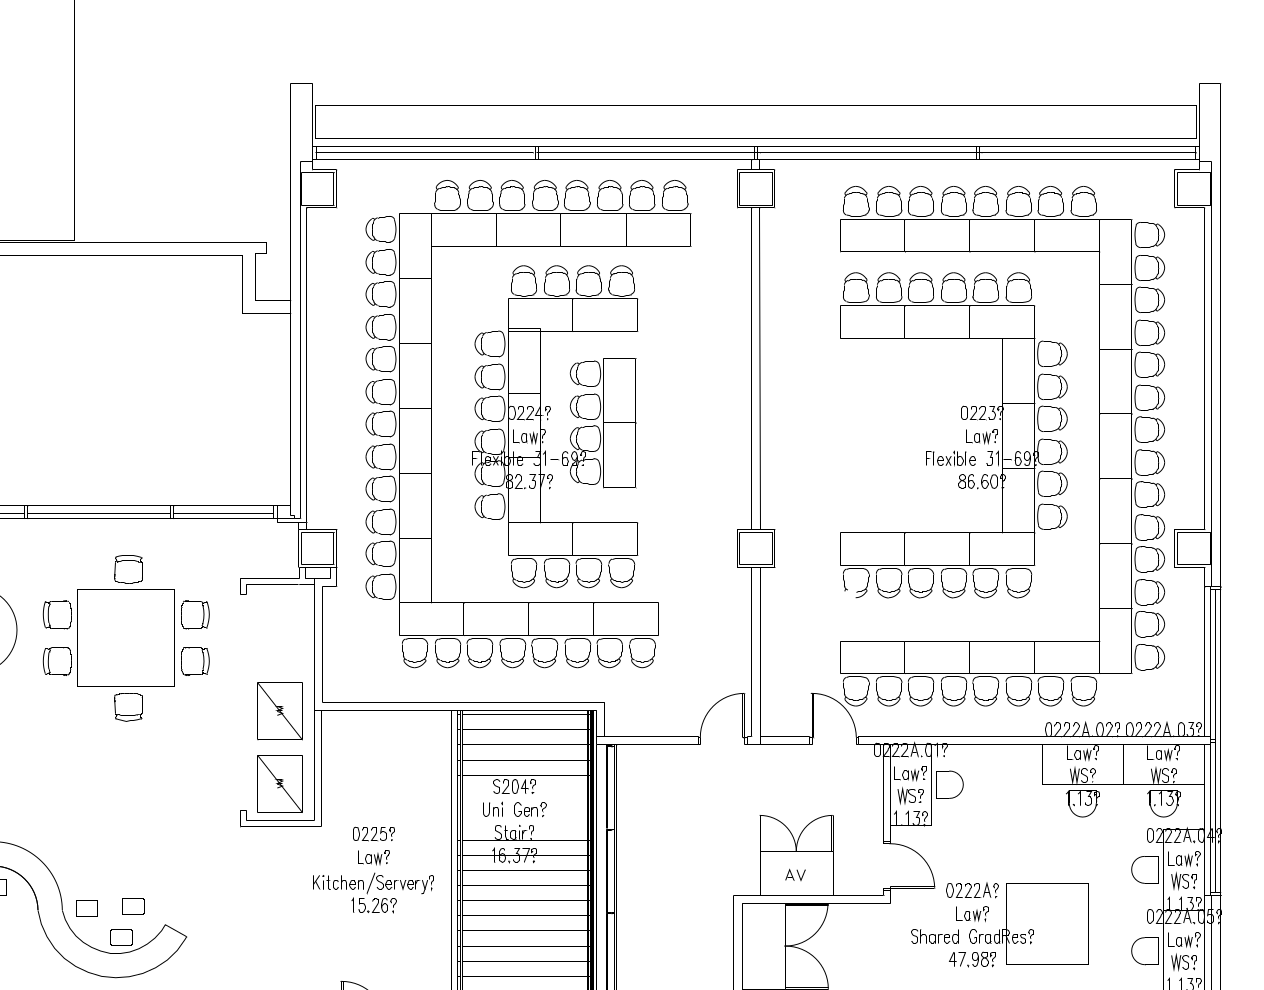door: (796, 688, 859, 748), (686, 685, 749, 745), (881, 837, 944, 897), (781, 902, 835, 947), (779, 945, 833, 990)
